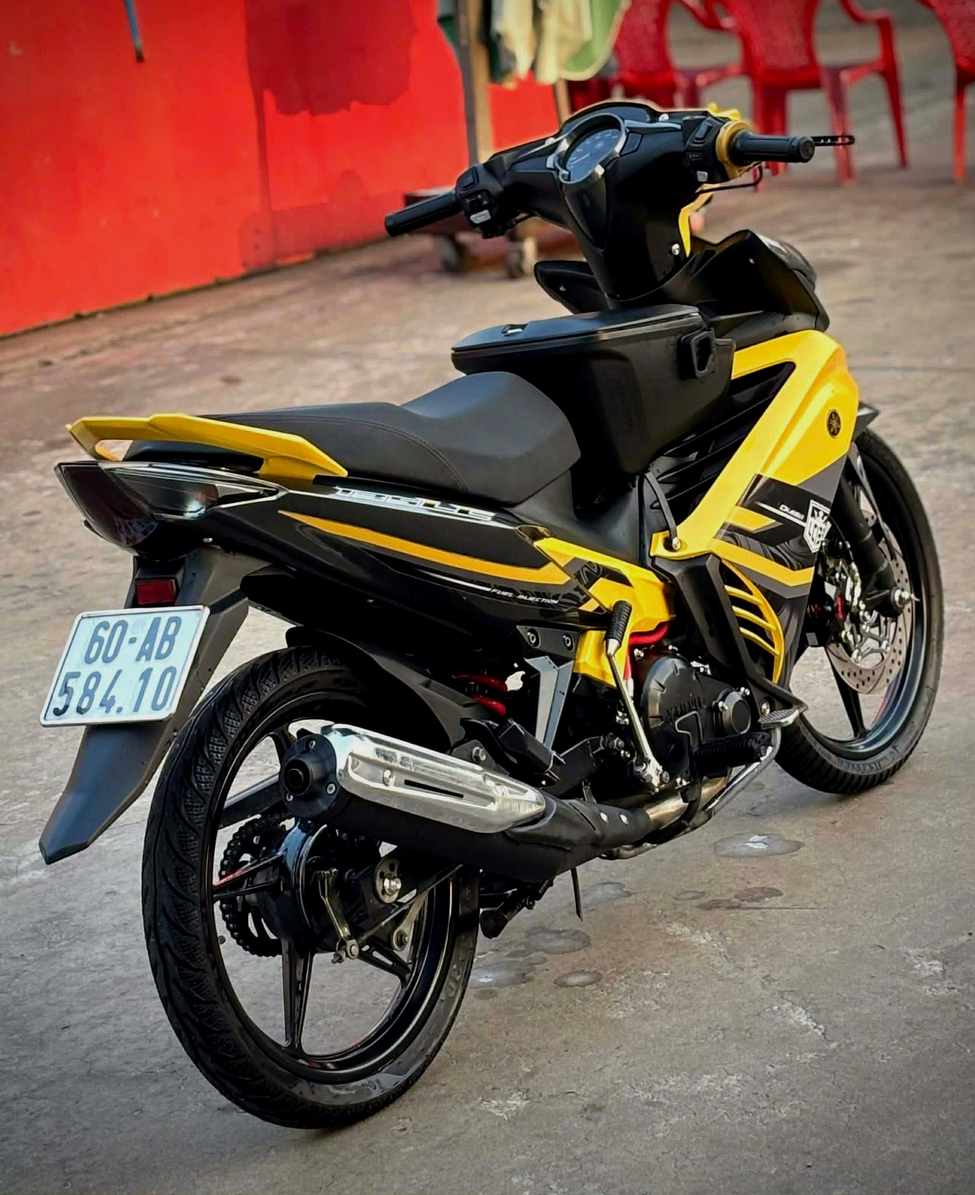Bien-so: (44, 613, 202, 720)
